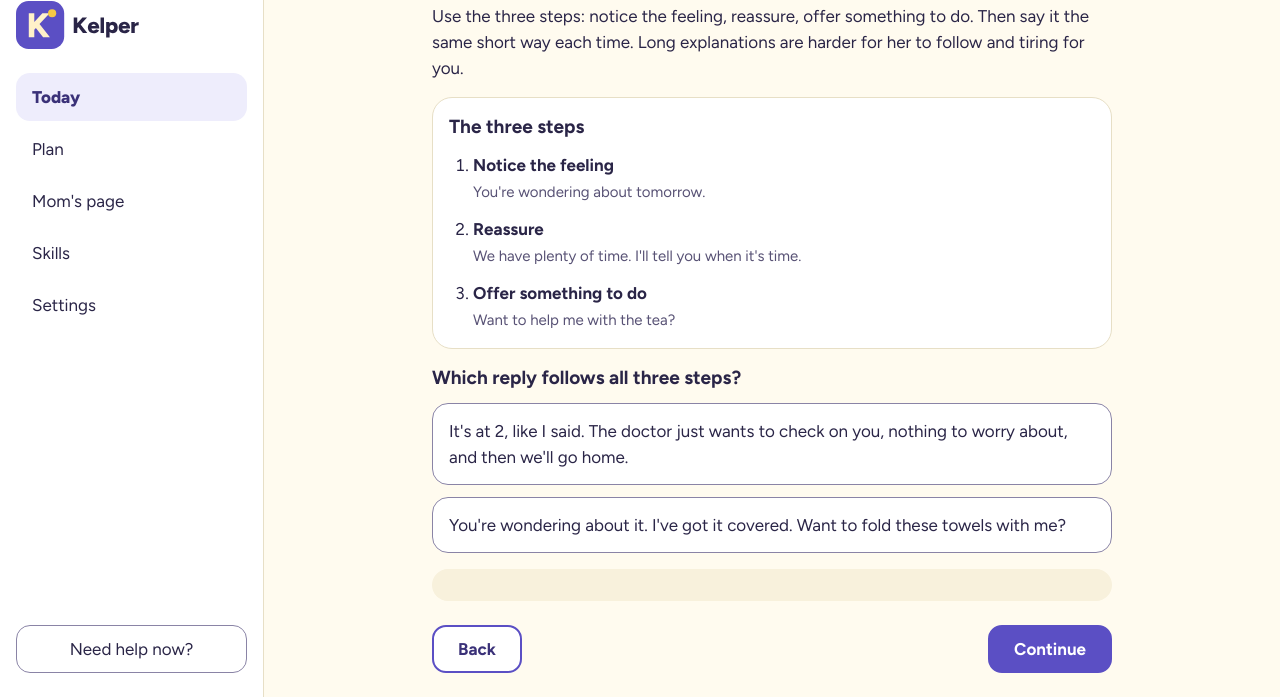
Scenario: plan screen › prefills from the role-play best phrase, ahead of saved phrases
Earlier steps of the test are not shown.
Later steps or results of the test are not shown.
(page scrolled)
Click the button "Continue" at (1050, 649), box [988,625,1112,673]
(page scrolled)
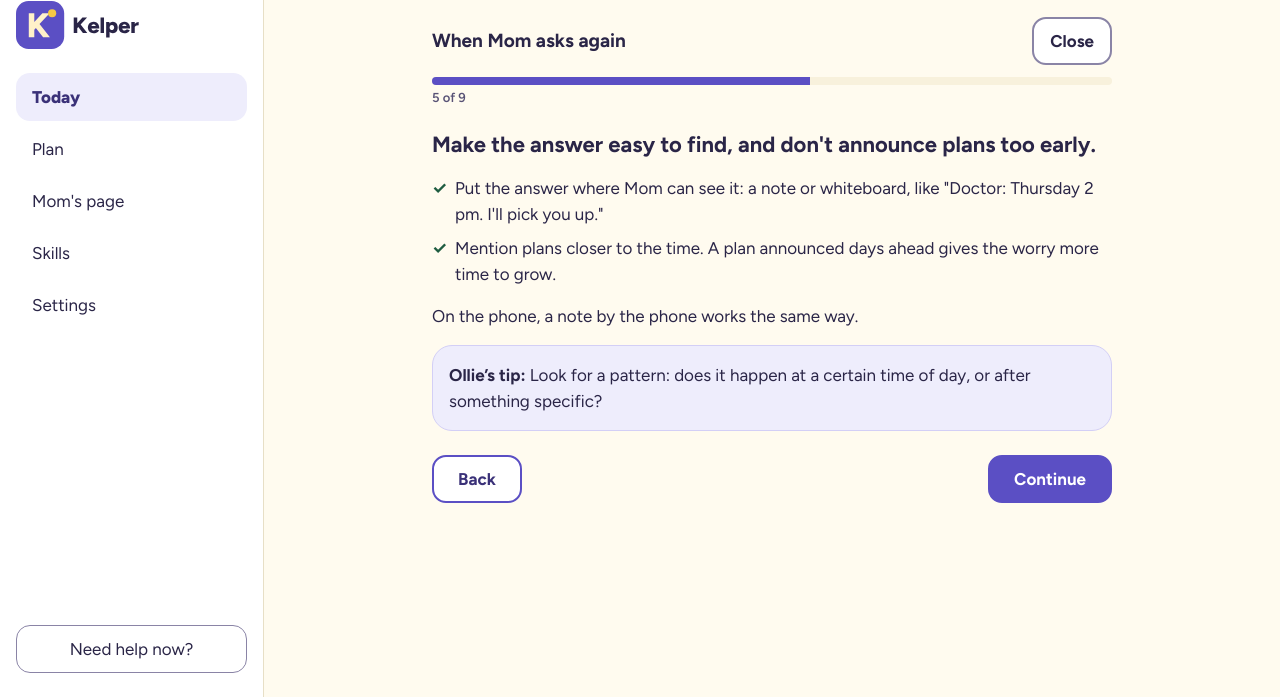
Click the button "Continue" at (1050, 479), box [988,455,1112,503]
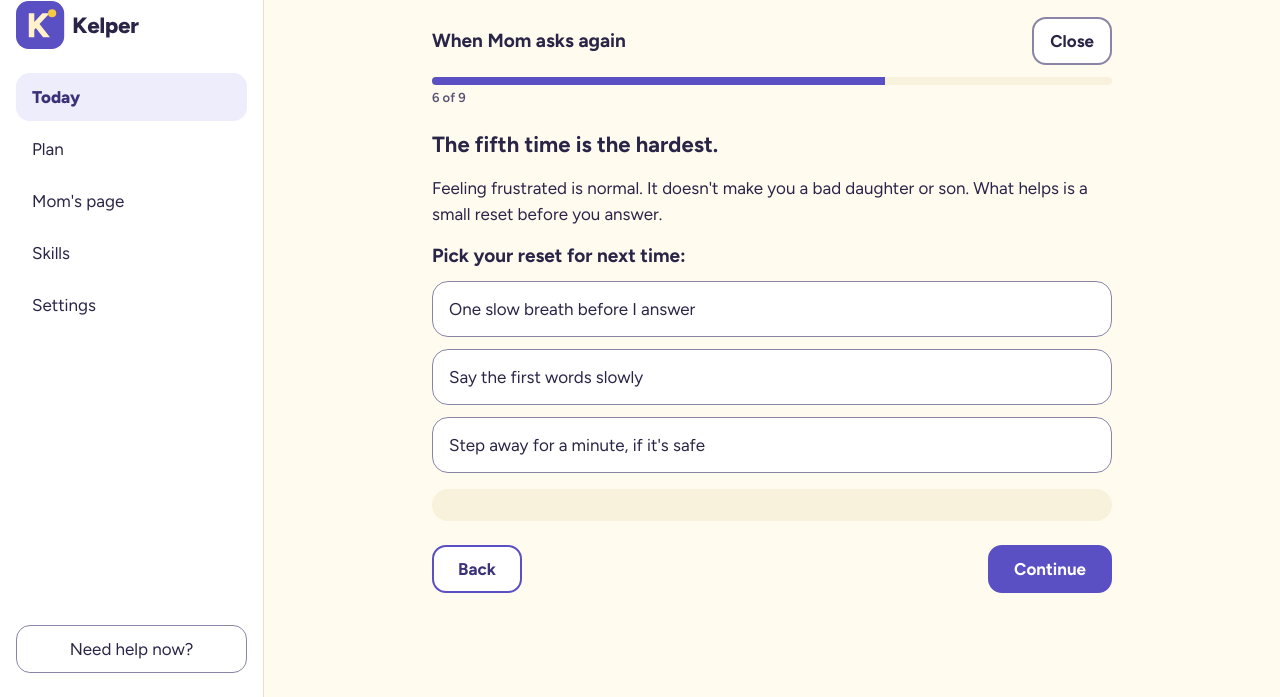
Click the button "Continue" at (1050, 569), box [988,545,1112,593]
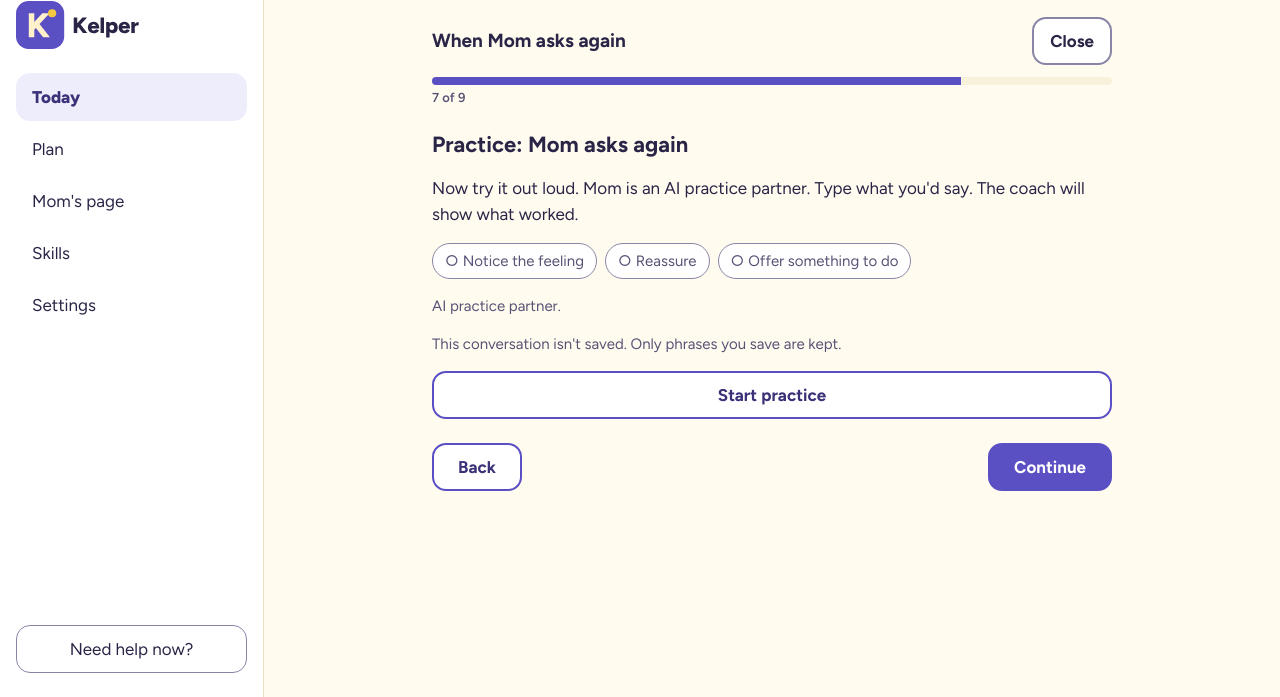
Click the button "Start practice" at (772, 395), box [432,371,1112,419]
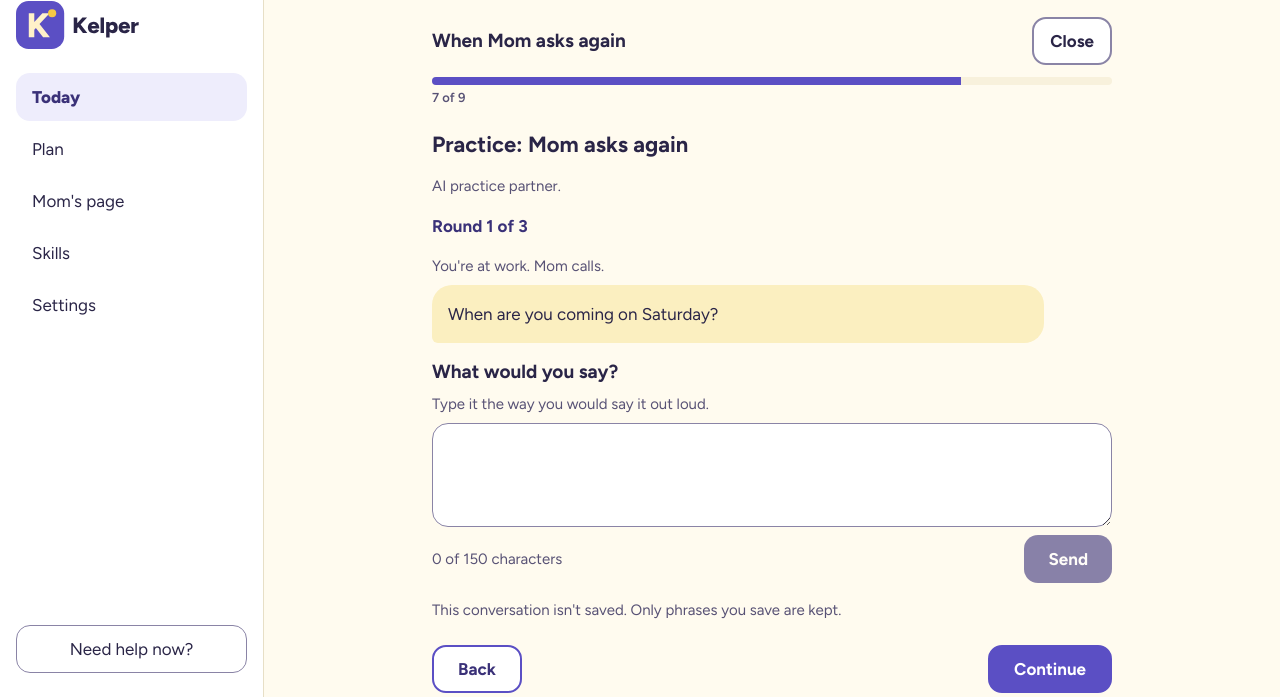
Type "I am here." into the text box labelled "What would you say?" at (772, 475), box [432,423,1112,527]
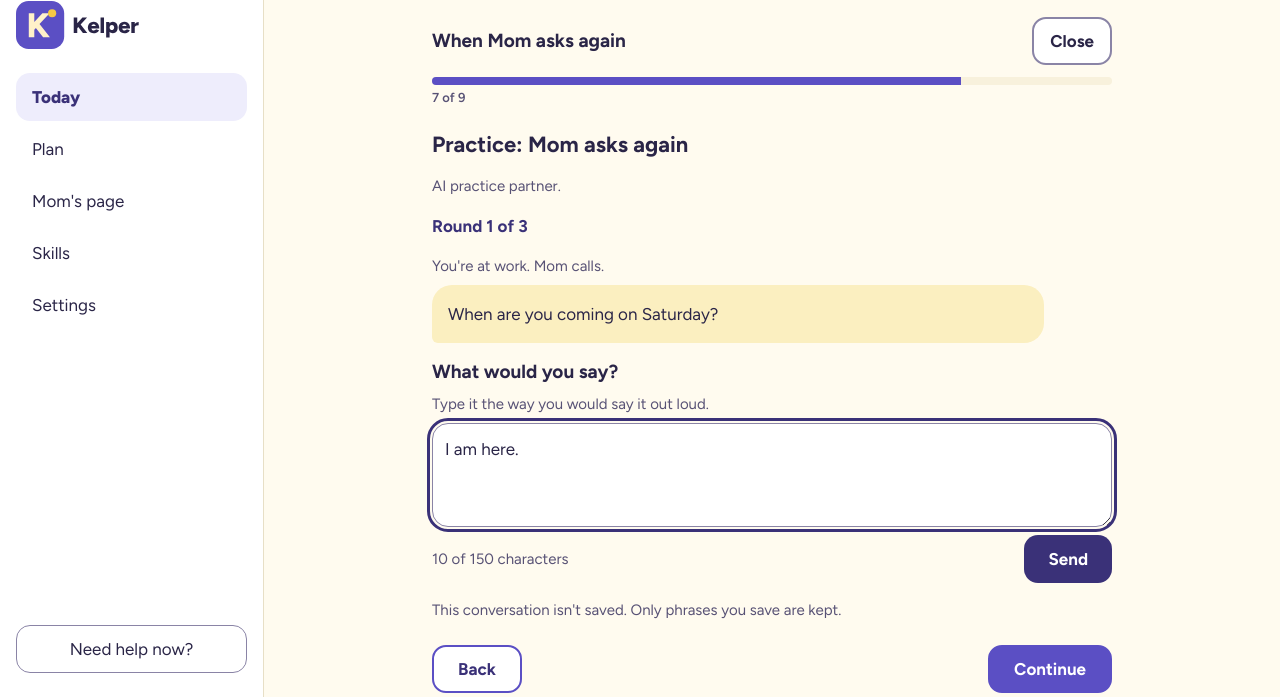
Click the button "Send" at (1068, 559), box [1024,535,1112,583]
(page scrolled)
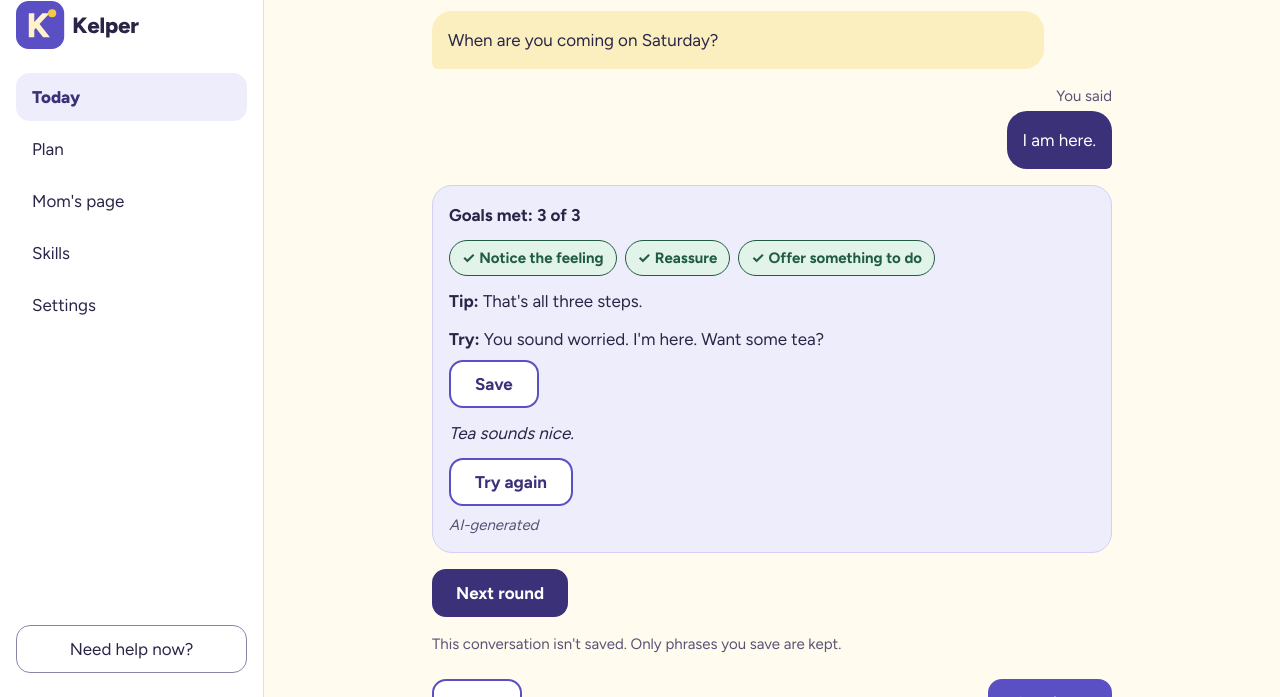
Now the text "AI-generated" is shown, box [449,514,538,536]
